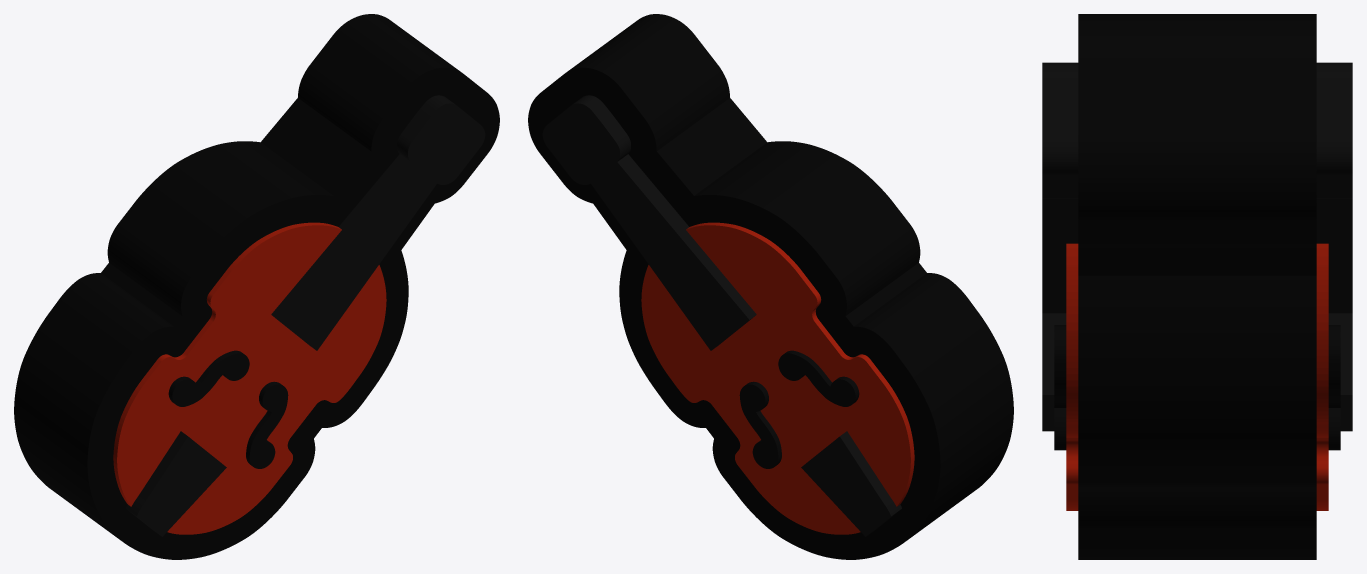
The picture shows the model from 3 angles, left to right: view 1: azimuth 30°, elevation 25°; view 2: azimuth 150°, elevation 25°; view 3: azimuth 270°, elevation 25°; orthographic projection. The views are drawn at different scales.
Visible parts, largest first — view 1: U+1F3BB_layer00_obj00, U+1F3BB_layer01_obj00, U+1F3BB_layer03_obj00, U+1F3BB_layer02_obj00; view 2: U+1F3BB_layer00_obj00, U+1F3BB_layer01_obj00, U+1F3BB_layer03_obj00, U+1F3BB_layer02_obj00; view 3: U+1F3BB_layer00_obj00, U+1F3BB_layer03_obj00, U+1F3BB_layer01_obj00, U+1F3BB_layer02_obj00.
Part boxes in pixels (bbox=[...]): U+1F3BB_layer00_obj00: bbox=[14, 14, 499, 559]; U+1F3BB_layer01_obj00: bbox=[113, 222, 386, 534]; U+1F3BB_layer03_obj00: bbox=[126, 95, 485, 536]; U+1F3BB_layer02_obj00: bbox=[168, 350, 288, 468]; U+1F3BB_layer00_obj00: bbox=[528, 14, 1013, 559]; U+1F3BB_layer01_obj00: bbox=[641, 222, 914, 534]; U+1F3BB_layer03_obj00: bbox=[542, 95, 901, 536]; U+1F3BB_layer02_obj00: bbox=[739, 350, 859, 468]; U+1F3BB_layer00_obj00: bbox=[1078, 14, 1316, 559]; U+1F3BB_layer03_obj00: bbox=[1042, 62, 1352, 431]; U+1F3BB_layer01_obj00: bbox=[1066, 243, 1328, 510]; U+1F3BB_layer02_obj00: bbox=[1054, 325, 1340, 450].
Size of the model in its own units: 0.6494 by 0.649 by 0.26.
